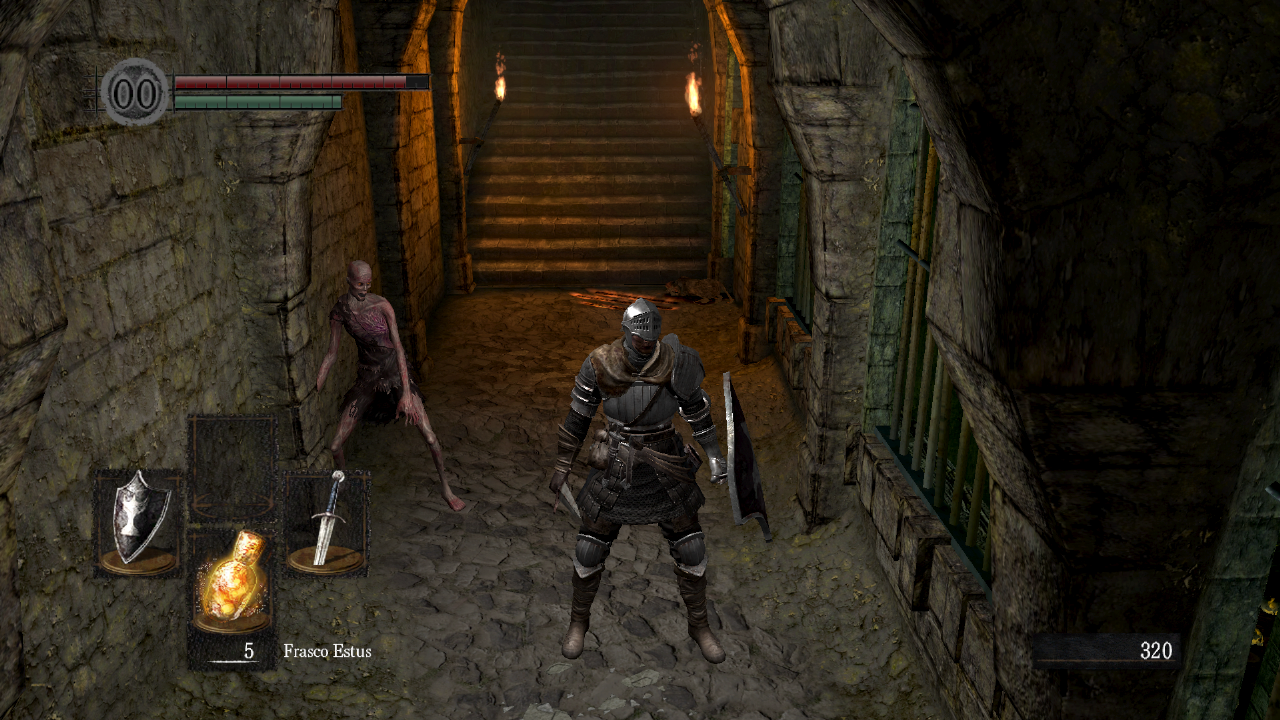hollow: (317, 259, 467, 513)
player: (549, 298, 772, 664)
